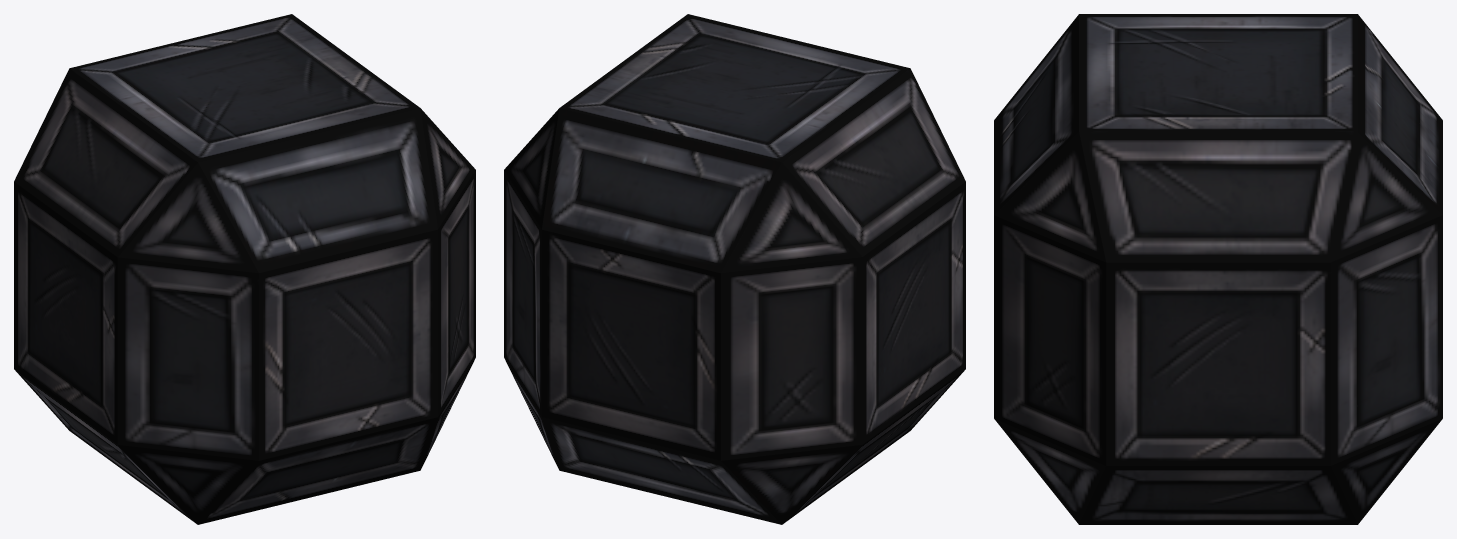
File: box normal.fbx
3 renders of one model, left to right at view 1: azimuth 30°, elevation 25°; view 2: azimuth 150°, elevation 25°; view 3: azimuth 270°, elevation 25°, orthographic. The views are drawn at different scales.
Parts seen in each view (by area): view 1: pasted__Normal_box; view 2: pasted__Normal_box; view 3: pasted__Normal_box.
Boxes of the visible parts, x1=… form: pasted__Normal_box: x1=14, y1=14, x2=475, y2=524; pasted__Normal_box: x1=504, y1=14, x2=965, y2=524; pasted__Normal_box: x1=994, y1=14, x2=1442, y2=524.
Bounding box in the file's own units: 2.01 × 1.95 × 2.01.
